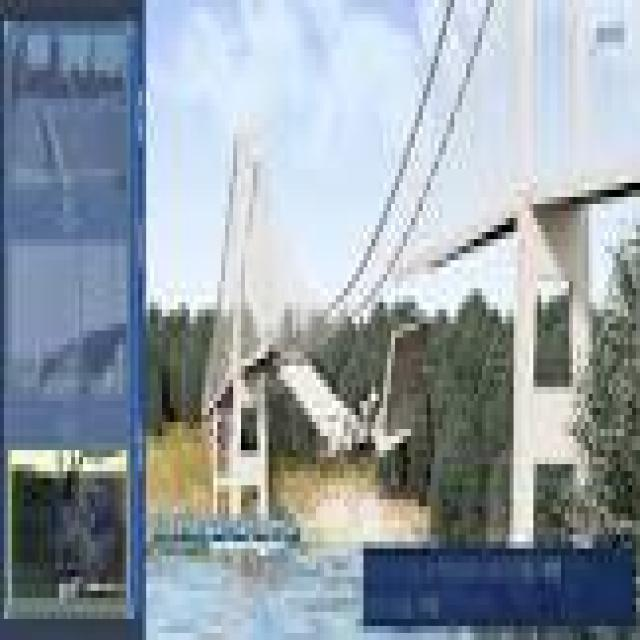bridge collapse: (229, 240, 561, 554)
